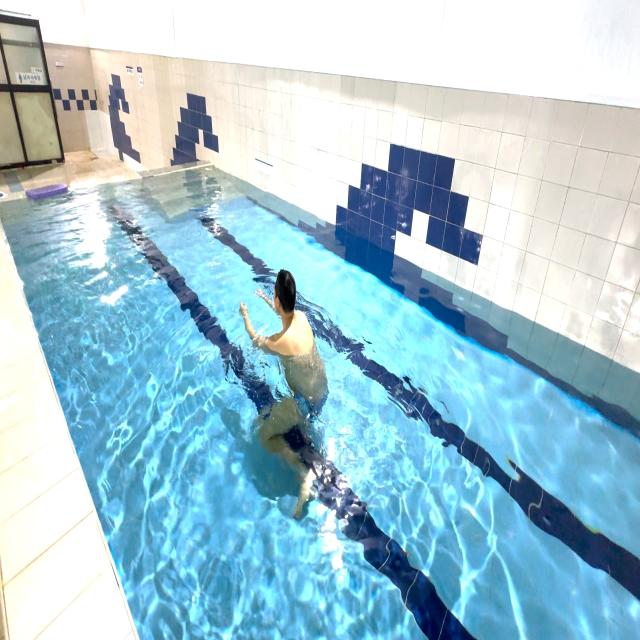Swimming: (228, 243, 352, 489)
